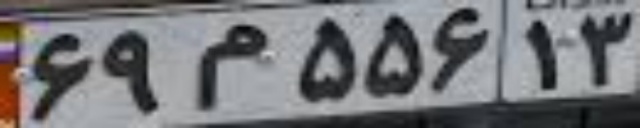1: (520, 17, 561, 90)
3: (579, 12, 632, 86)
5: (293, 15, 356, 102), (365, 13, 420, 99)
6: (430, 6, 495, 92), (28, 32, 89, 120)
9: (98, 30, 158, 114)
mim: (197, 21, 267, 111)
